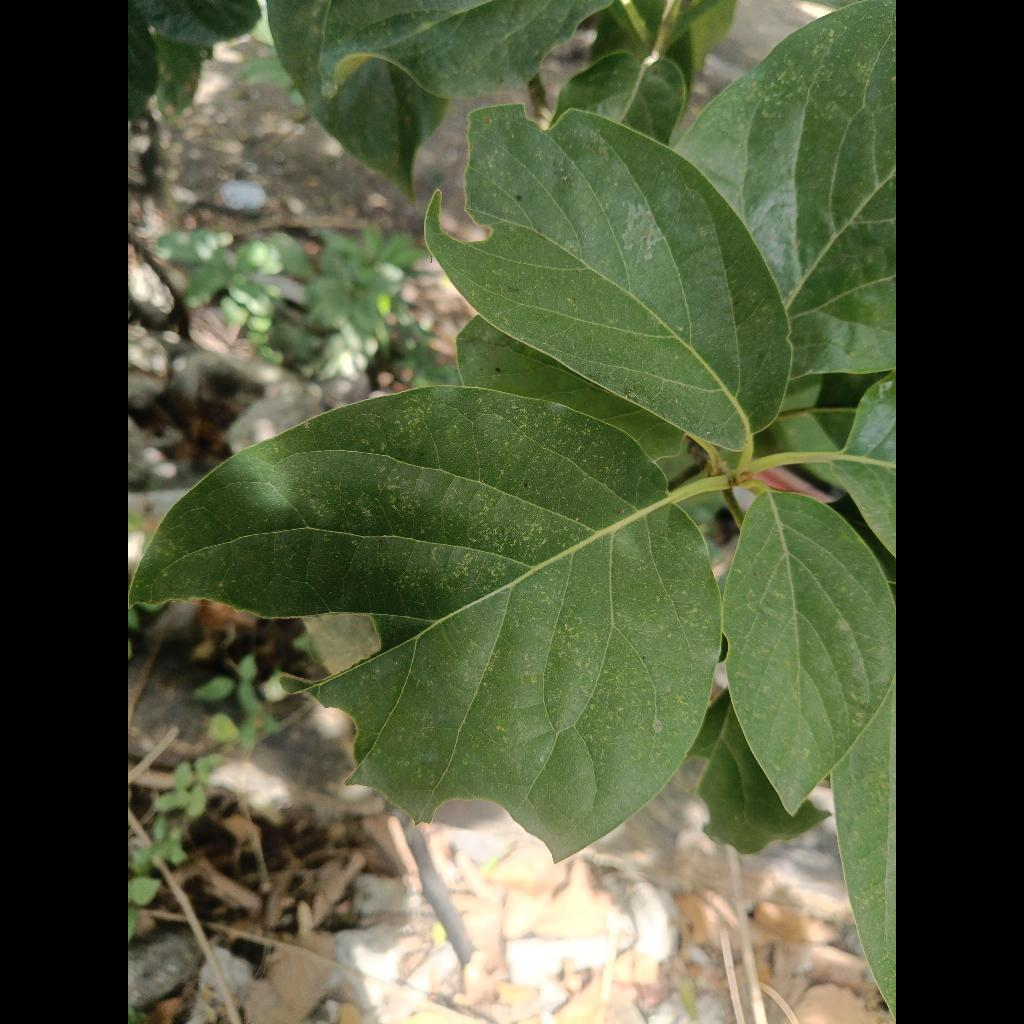Pest Infested: (131, 386, 720, 856), (425, 106, 791, 450)
